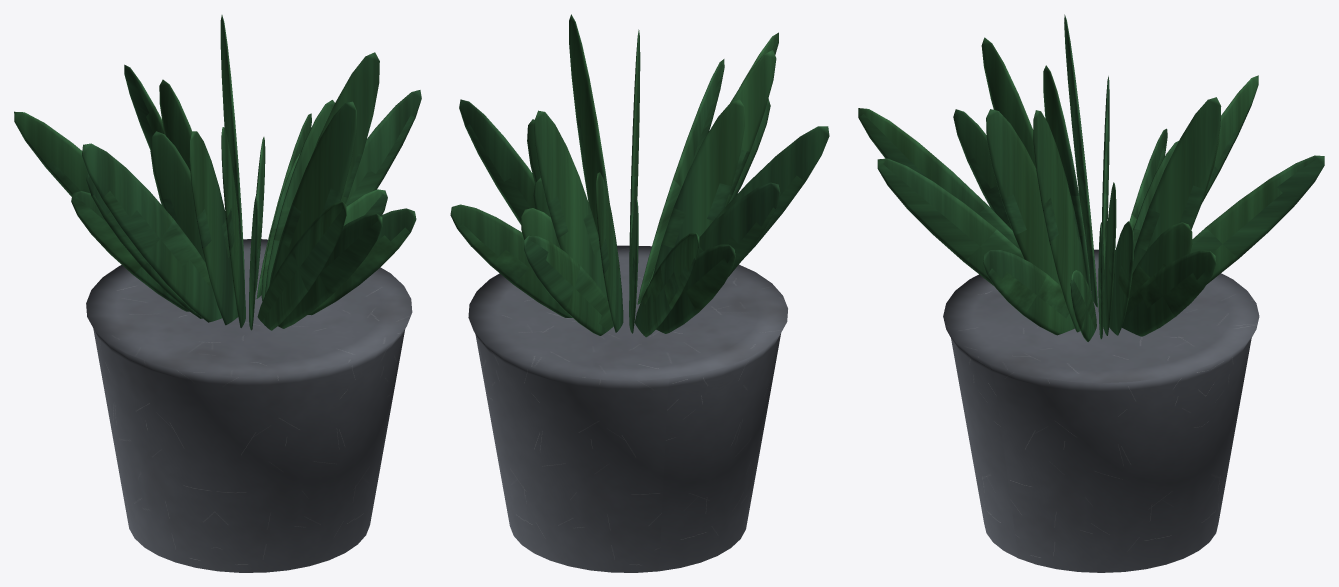
Rendered from Plant.glb.
3 renders of one model, left to right at view 1: azimuth 30°, elevation 25°; view 2: azimuth 150°, elevation 25°; view 3: azimuth 270°, elevation 25°, orthographic. The views are drawn at different scales.
Parts seen in each view (by area): view 1: Plant_MetalGrey, Plant_Leaves; view 2: Plant_MetalGrey, Plant_Leaves; view 3: Plant_MetalGrey, Plant_Leaves.
Part boxes in pixels (x1,y1,x2,y2): Plant_MetalGrey: [86, 239, 412, 572]; Plant_Leaves: [14, 15, 421, 330]; Plant_MetalGrey: [468, 245, 787, 572]; Plant_Leaves: [450, 14, 829, 337]; Plant_MetalGrey: [943, 249, 1259, 572]; Plant_Leaves: [858, 14, 1324, 341].
Bounding box in the file's own units: 3.42 × 4.3 × 3.98.
3 materials, 3 textured.
